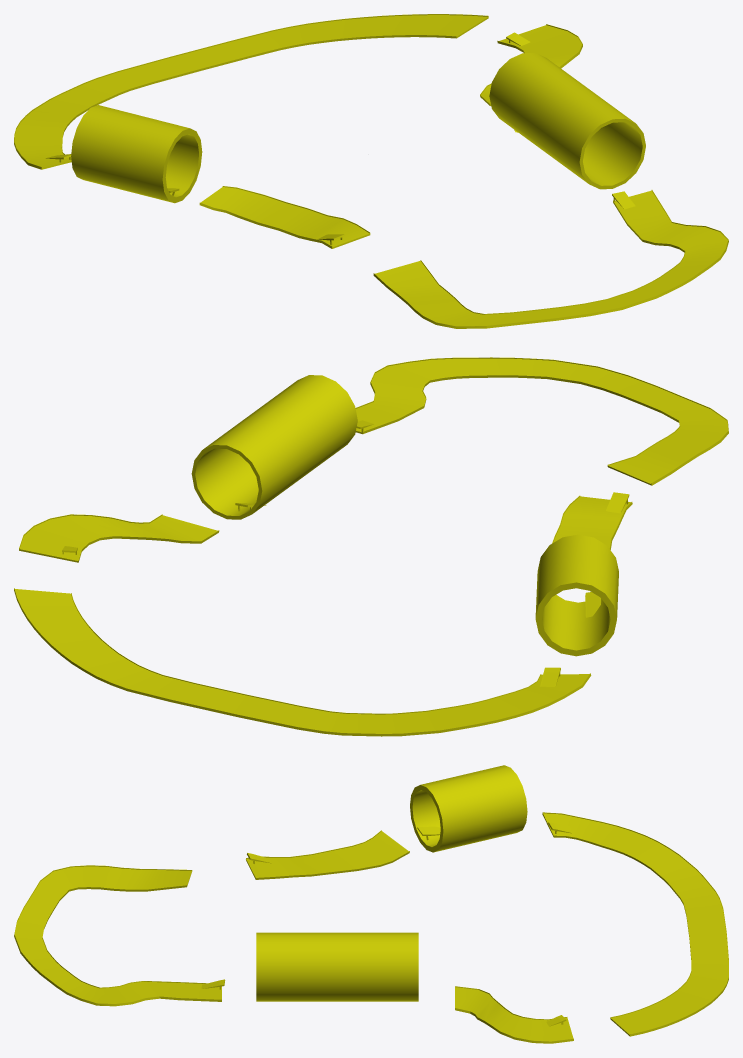
The model's file is track.obj.
The picture shows the model from 3 angles, top to bottom: view 1: azimuth 30°, elevation 25°; view 2: azimuth 150°, elevation 25°; view 3: azimuth 270°, elevation 25°; orthographic projection. The views are drawn at different scales.
Parts seen in each view (by area): view 1: Plane, Cylinder.001_Cylinder.003, Cylinder_Cylinder.001; view 2: Plane, Cylinder.001_Cylinder.003, Cylinder_Cylinder.001; view 3: Plane, Cylinder.001_Cylinder.003, Cylinder_Cylinder.001.
Boxes of the visible parts, <box> form: Plane: <box>14,14,728,328</box>; Cylinder.001_Cylinder.003: <box>489,52,645,189</box>; Cylinder_Cylinder.001: <box>71,105,202,203</box>; Plane: <box>14,357,728,736</box>; Cylinder.001_Cylinder.003: <box>191,375,357,519</box>; Cylinder_Cylinder.001: <box>535,534,618,656</box>; Plane: <box>14,812,728,1043</box>; Cylinder.001_Cylinder.003: <box>256,932,418,1001</box>; Cylinder_Cylinder.001: <box>410,765,527,852</box>.
Size of the model in its own units: 179 by 28.11 by 230.
